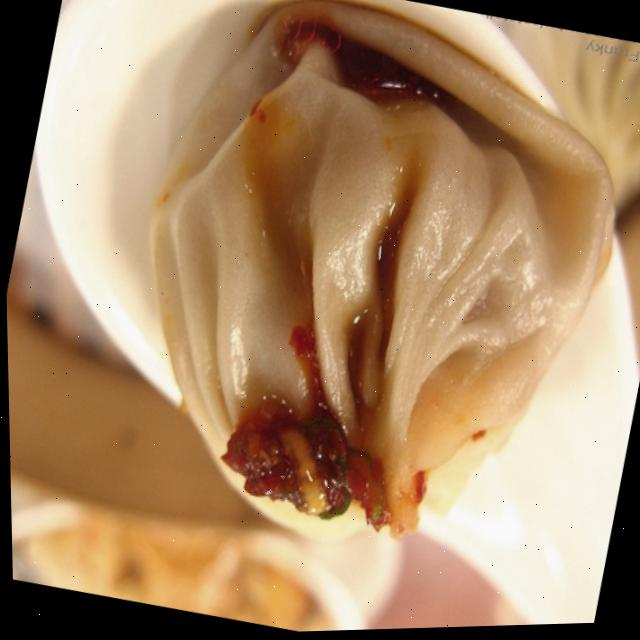带馅早点: (44, 0, 640, 627)
